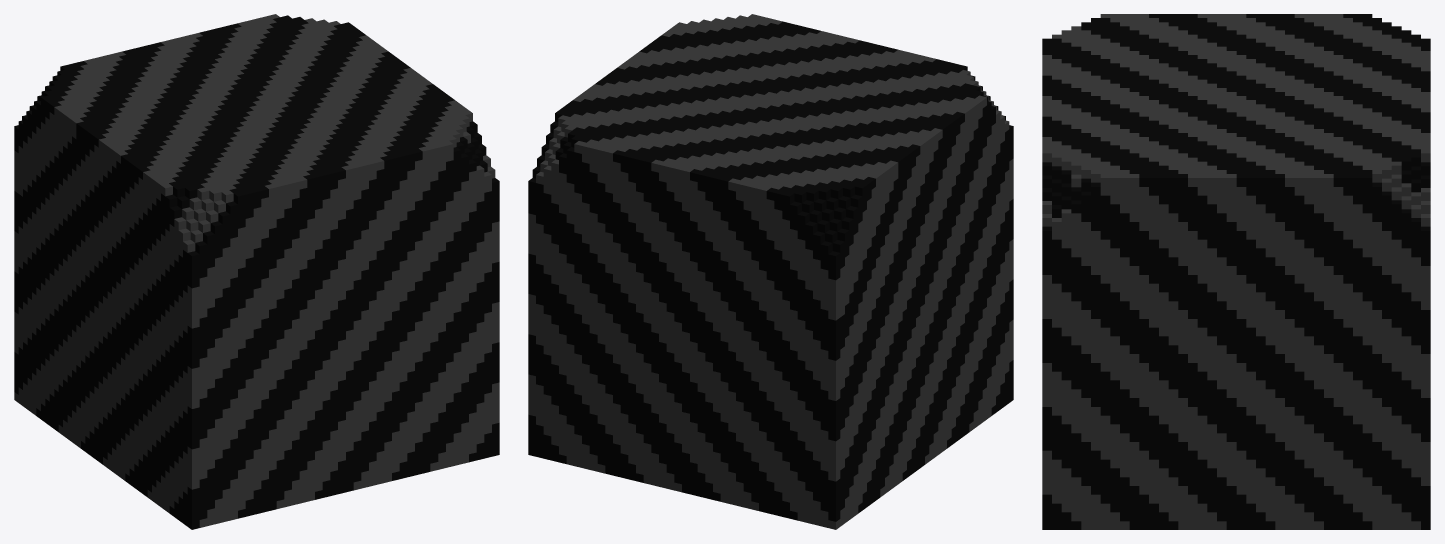
File: Obstaculo Bueno.obj
3 views of the same model, side by side, from view 1: azimuth 30°, elevation 25°; view 2: azimuth 150°, elevation 25°; view 3: azimuth 270°, elevation 25° (orthographic). The views are drawn at different scales.
Size of the model in its own units: 4 by 4 by 4.
Materials: 1 (1 with a texture image).
